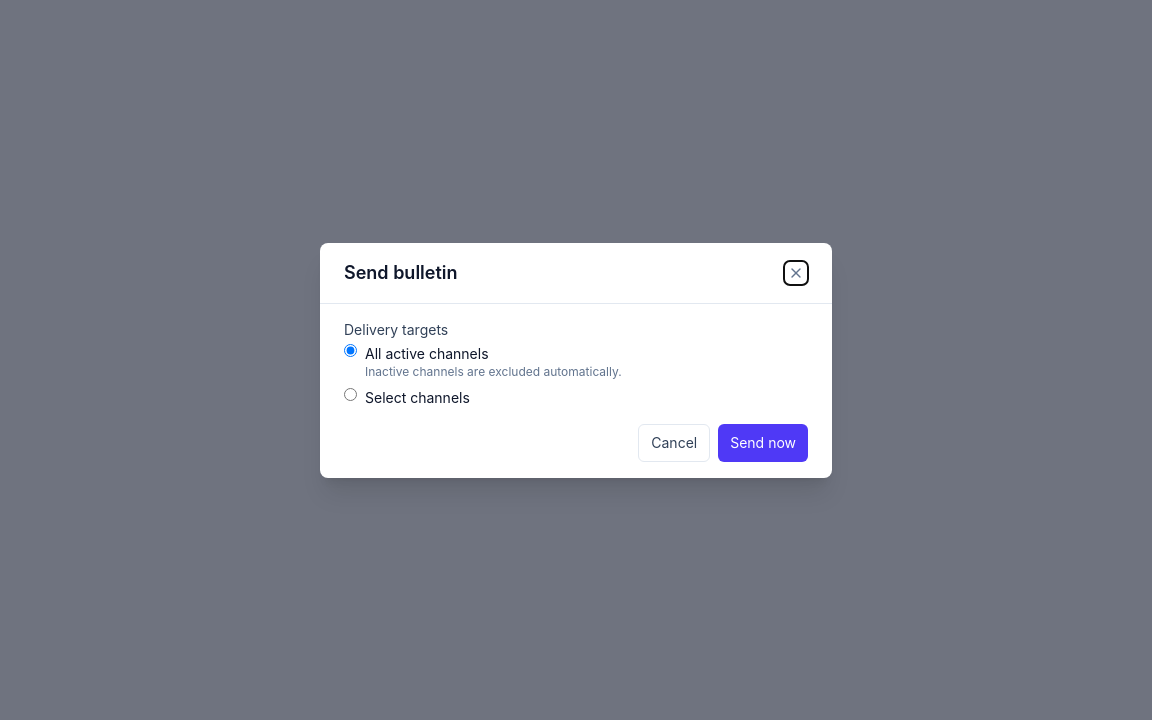
FE-SND-01: send dialog › surfaces the 409 INACTIVE_TARGET message in the dialog without the AI block
The image size is (1152, 720).
Click the radio button labelled "Select channels": (350, 394) [344, 388, 357, 400]
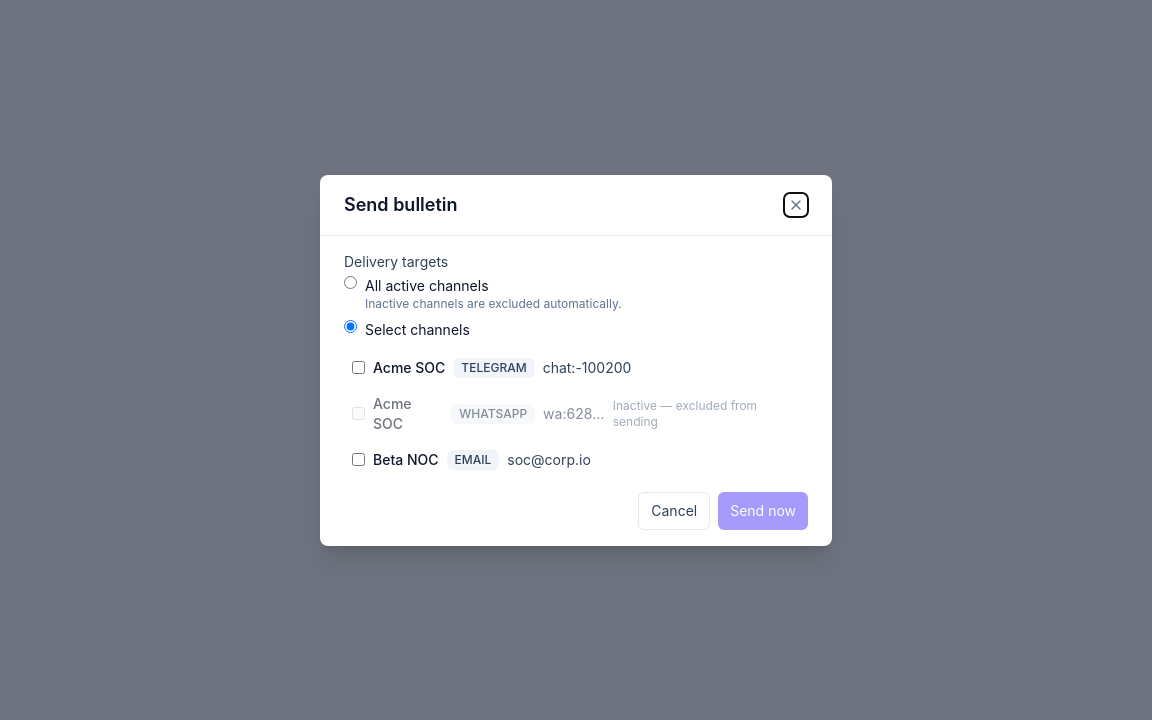
Click the checkbox labelled "Acme SOC TELEGRAM chat:-100200": (358, 368) [352, 361, 365, 374]
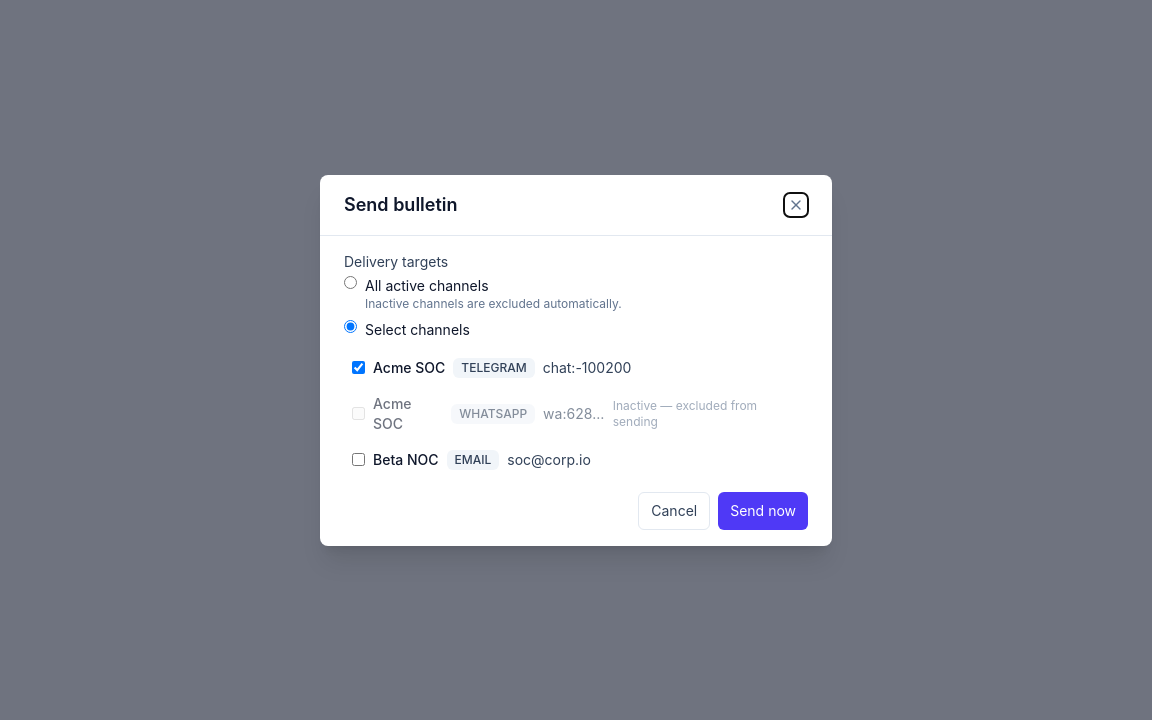
Click the button "Send now": (763, 510) [718, 492, 808, 530]
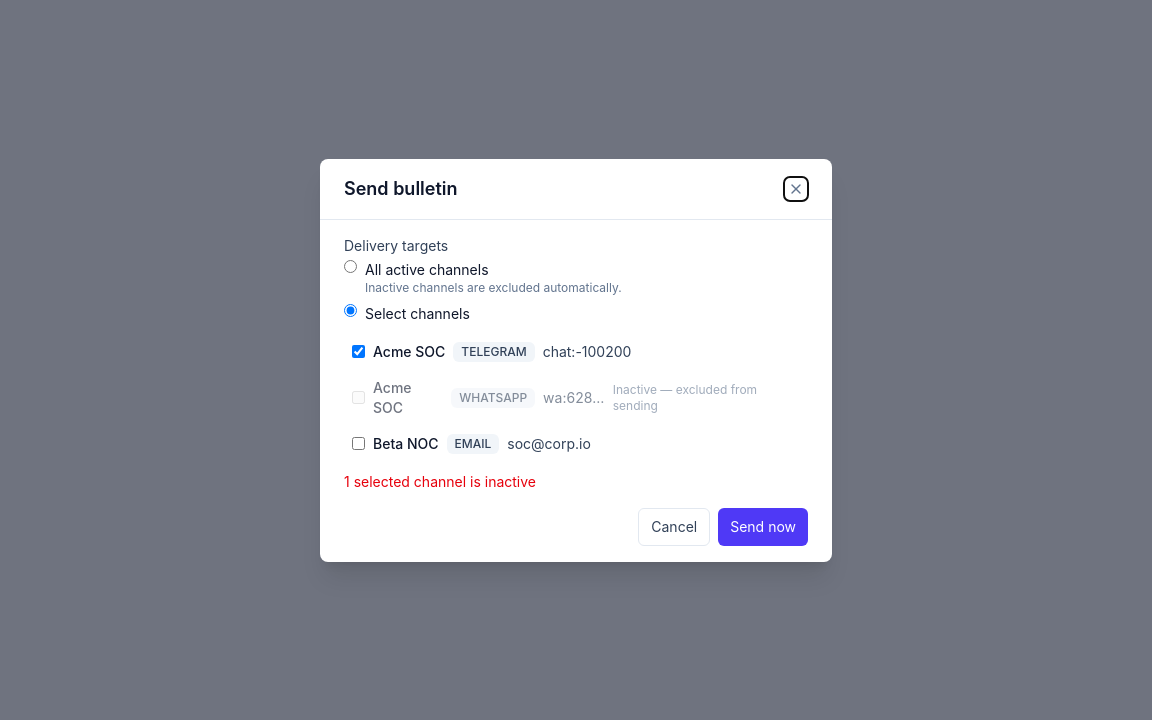
expect the message shows "inactive": met, box [344, 472, 536, 490]
